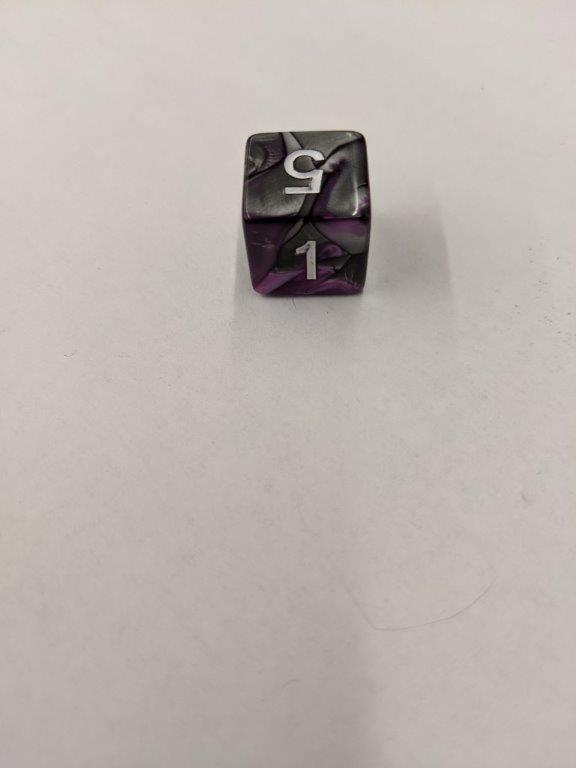d6-5: (242, 129, 372, 301)
